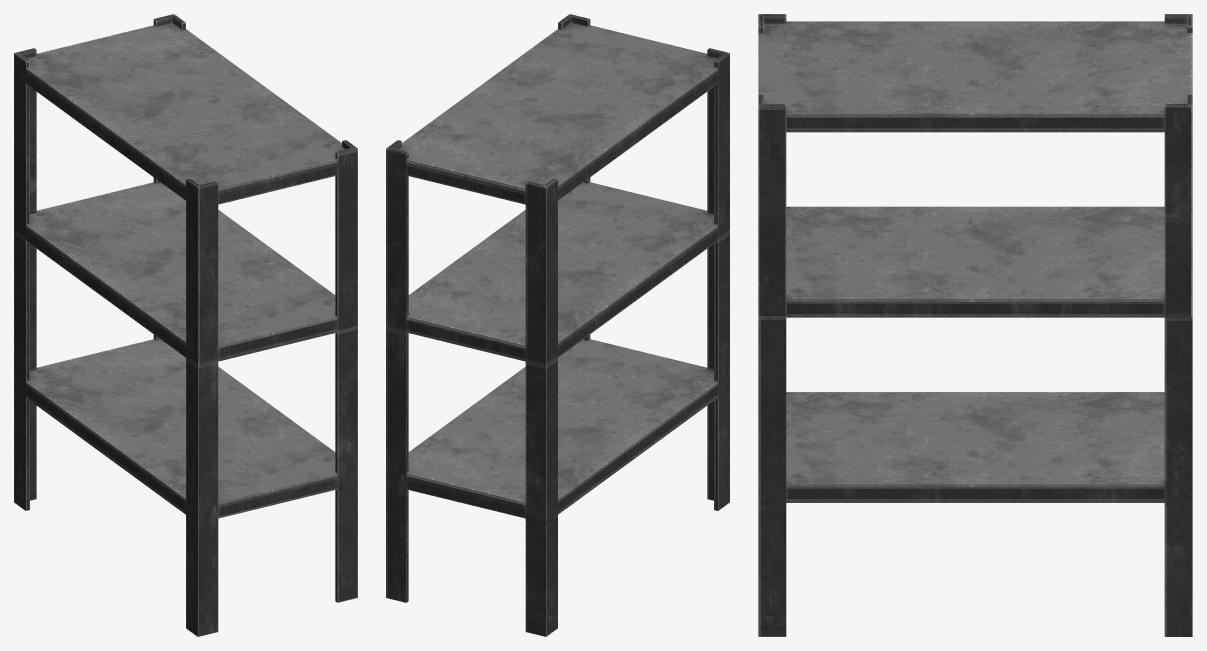
File: shelf.glb
3 renders of one model, left to right at view 1: azimuth 30°, elevation 25°; view 2: azimuth 150°, elevation 25°; view 3: azimuth 270°, elevation 25°, orthographic. The views are drawn at different scales.
Parts seen in each view (by area): view 1: shelf-col; view 2: shelf-col; view 3: shelf-col.
Part boxes in pixels (x1=…): shelf-col: x1=14, y1=14, x2=357, y2=636; shelf-col: x1=386, y1=14, x2=729, y2=636; shelf-col: x1=758, y1=14, x2=1192, y2=636.
Bounding box in the file's own units: 2.33 × 6.25 × 4.63.
Materials: 1 (1 with a texture image).
